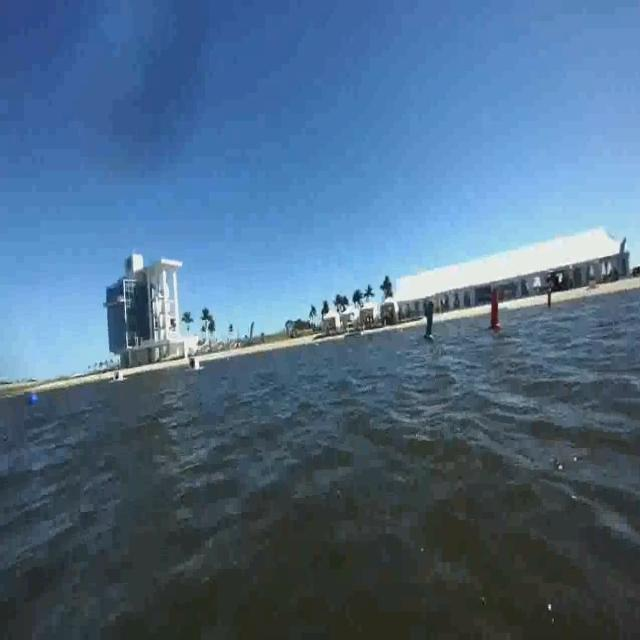blue-buoy: (29, 384, 40, 406)
green-column-buoy: (422, 299, 436, 342)
red-column-buoy: (489, 288, 503, 331)
